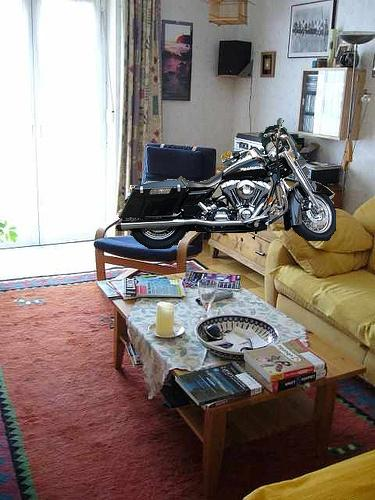tampered: (116, 119, 336, 249)
